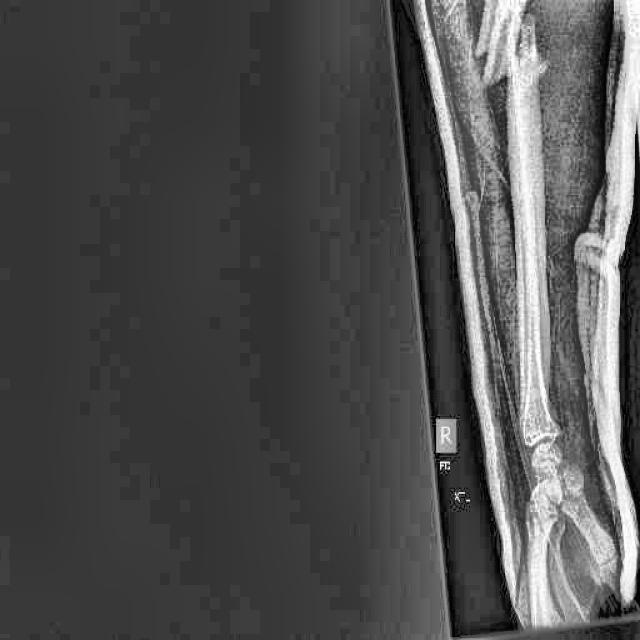forearm fracture: (454, 10, 571, 121)
